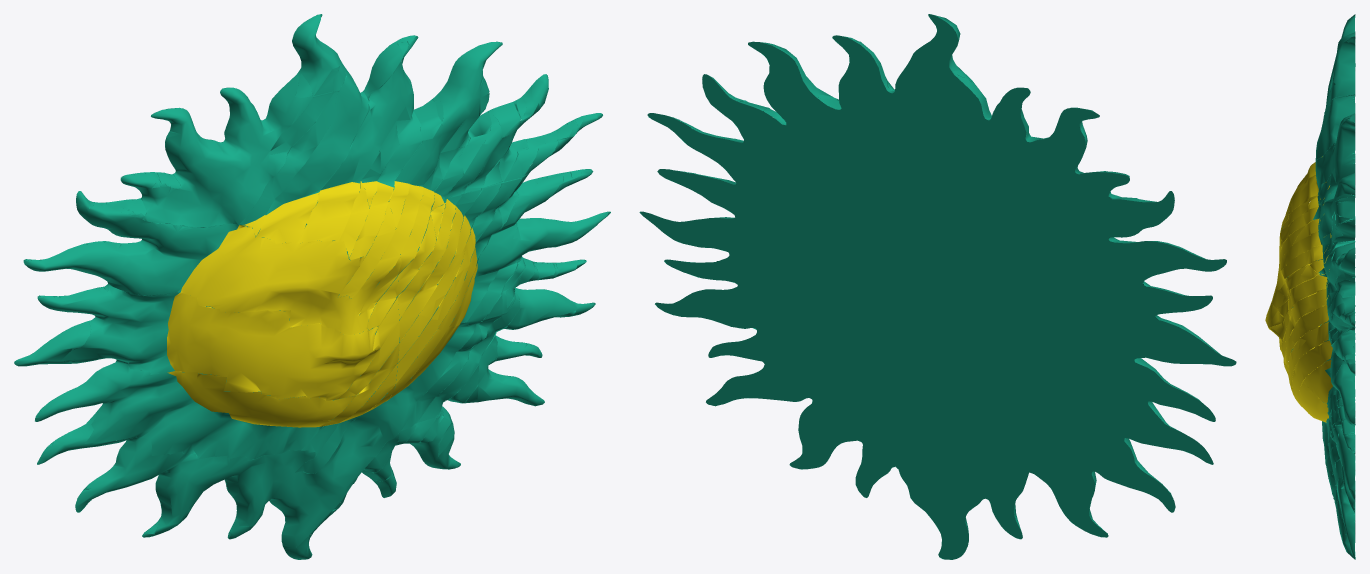
Rendered from sun.fbx.
3 renders of one model, left to right at view 1: azimuth 30°, elevation 25°; view 2: azimuth 150°, elevation 25°; view 3: azimuth 270°, elevation 25°, orthographic. The views are drawn at different scales.
Parts seen in each view (by area): view 1: Plane_Material_0, Plane_Material_0.001; view 2: Plane_Material_0; view 3: Plane_Material_0, Plane_Material_0.001.
Boxes of the visible parts, bbox=[...] form: Plane_Material_0: bbox=[14, 14, 610, 559]; Plane_Material_0.001: bbox=[167, 181, 477, 427]; Plane_Material_0: bbox=[639, 14, 1236, 559]; Plane_Material_0: bbox=[1282, 14, 1355, 559]; Plane_Material_0.001: bbox=[1265, 156, 1332, 422].
Bounding box in the file's own units: 9115 × 7910 × 1263.
